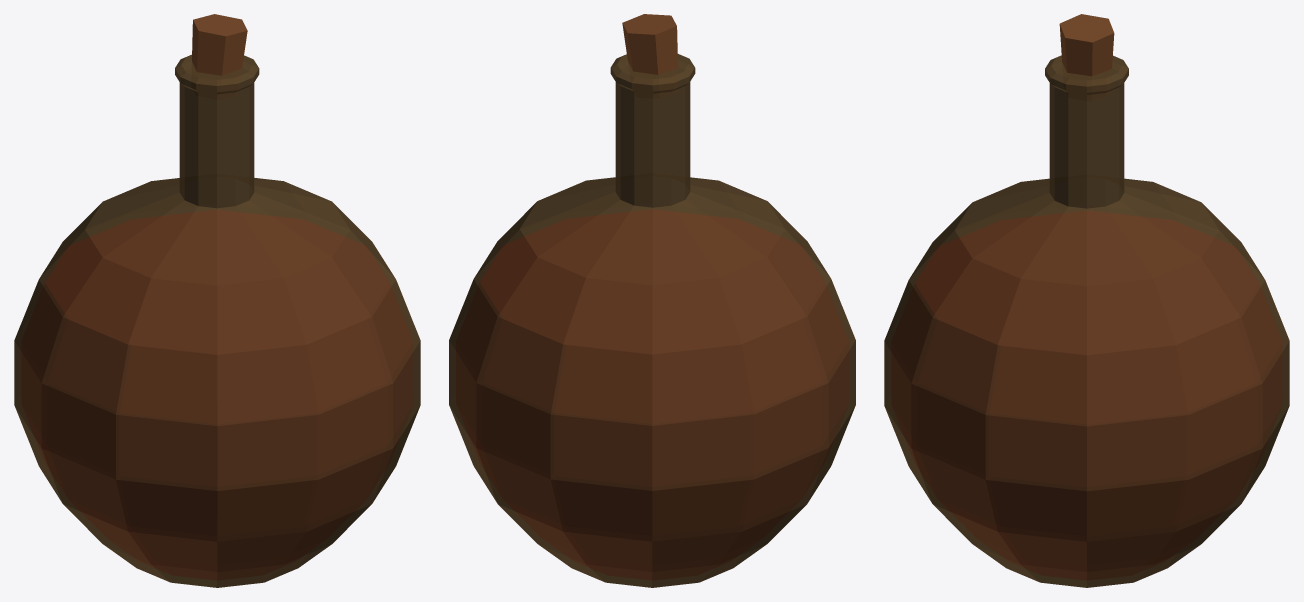
The model's file is bottle3.fbx.
3 views of the same model, side by side, from view 1: azimuth 30°, elevation 25°; view 2: azimuth 150°, elevation 25°; view 3: azimuth 270°, elevation 25° (orthographic).
Visible parts, largest first — view 1: Cylinder; view 2: Cylinder; view 3: Cylinder.
Part boxes in pixels (box(x1,y1,x2,y2)): Cylinder: box(14, 14, 420, 587); Cylinder: box(449, 14, 855, 587); Cylinder: box(884, 14, 1289, 587).
Size of the model in its own units: 197 by 281 by 197.
